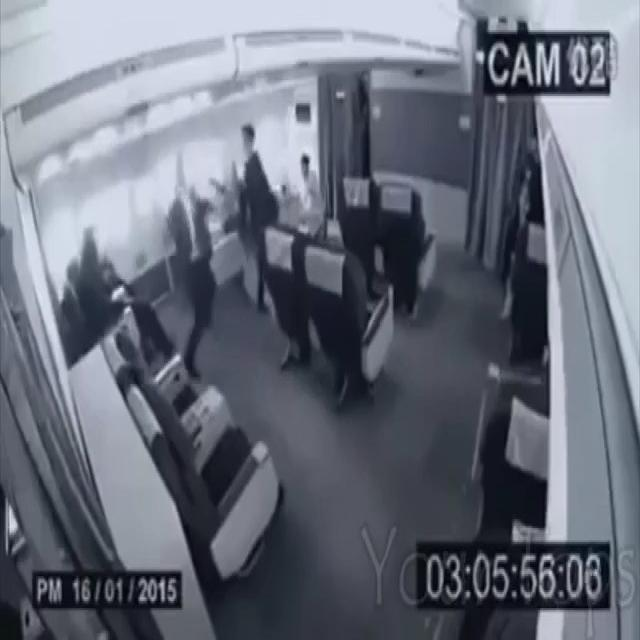fight: (167, 122, 269, 378)
